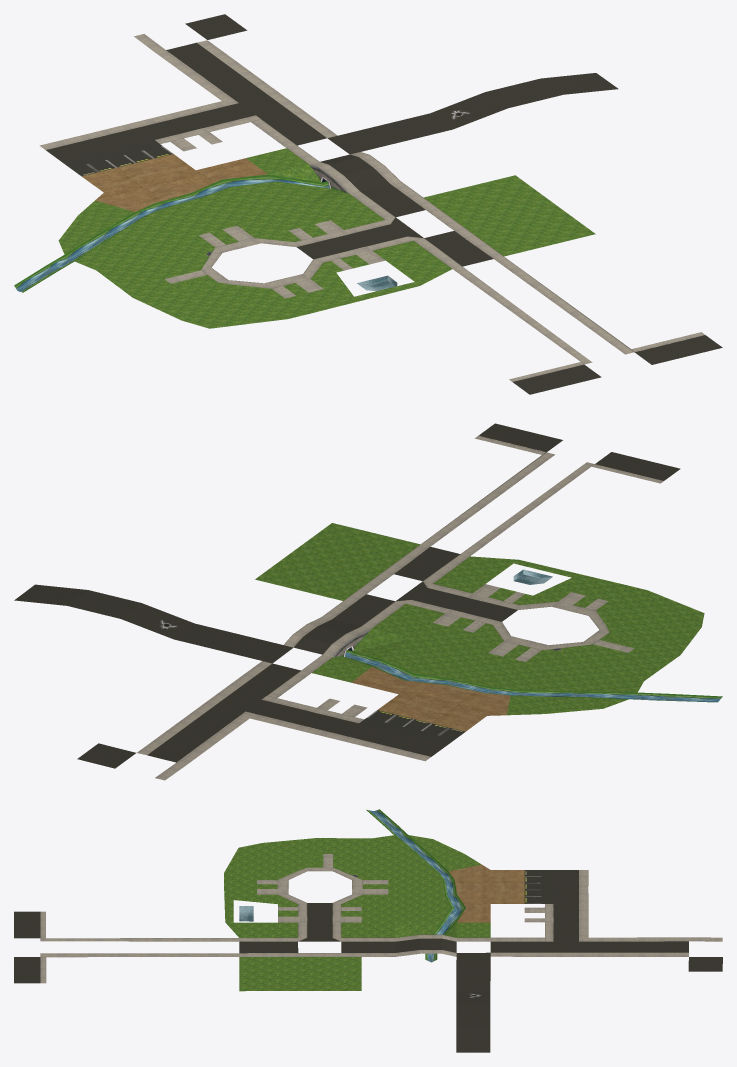
File: GROUND.glb
3 renders of one model, top to bottom at view 1: azimuth 30°, elevation 25°; view 2: azimuth 150°, elevation 25°; view 3: azimuth 270°, elevation 25°, orthographic. The views are drawn at different scales.
Visible parts, largest first — view 1: GROUND; view 2: GROUND; view 3: GROUND.
Boxes of the visible parts, <box> form: GROUND: <box>14,14,722,394</box>; GROUND: <box>14,423,722,780</box>; GROUND: <box>14,809,722,1052</box>.
Bounding box in the file's own units: 27352 × 817 × 33704.
14 materials, 14 textured.
